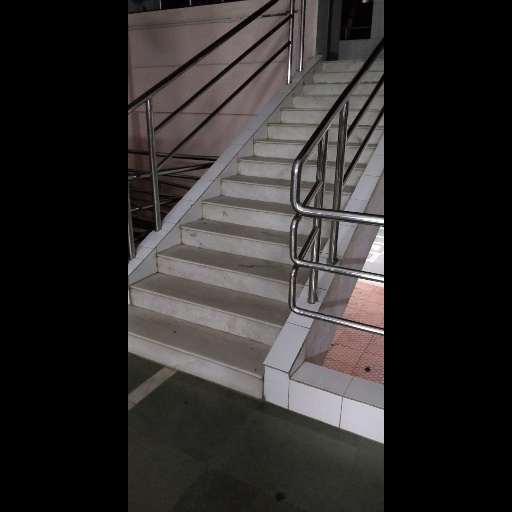Stairs: (129, 62, 362, 398)
